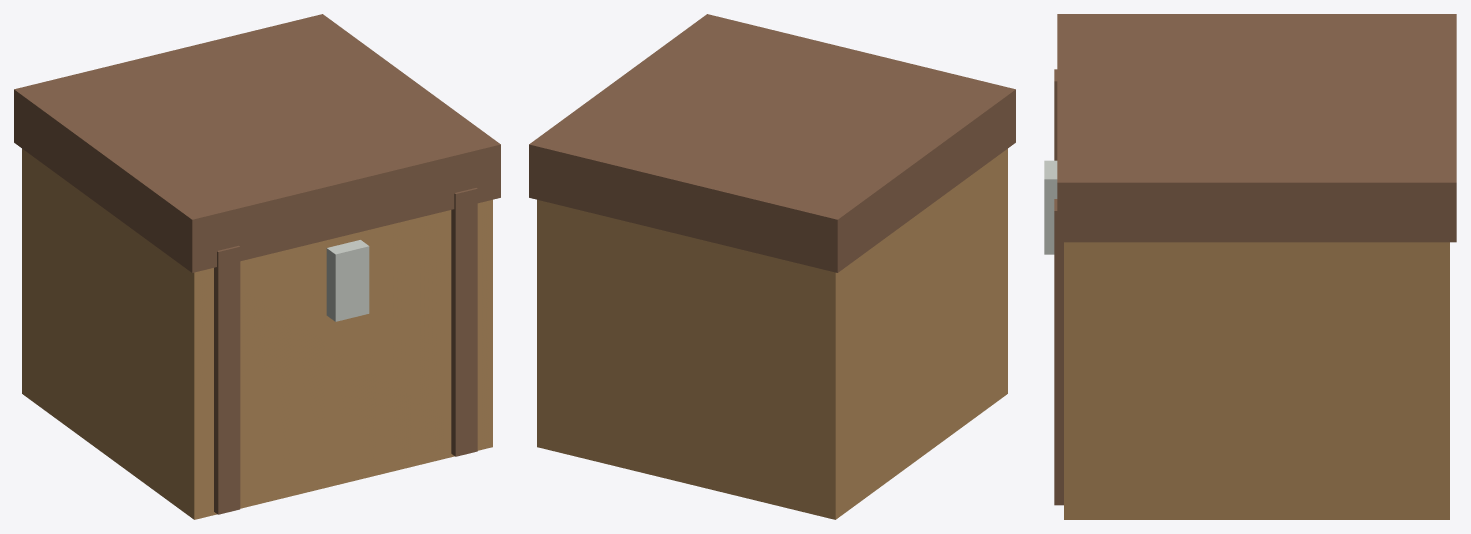
File: chest.glb
The picture shows the model from 3 angles, left to right: view 1: azimuth 30°, elevation 25°; view 2: azimuth 150°, elevation 25°; view 3: azimuth 270°, elevation 25°; orthographic projection. The views are drawn at different scales.
Visible parts, largest first — view 1: box, lid, band, band.001, latch; view 2: box, lid; view 3: box, lid, band.001, latch.
Boxes of the visible parts, left/top/right/bottom form: box: left=22, top=148, right=492, bottom=519; lid: left=14, top=14, right=500, bottom=272; band: left=214, top=245, right=240, bottom=514; band.001: left=451, top=188, right=477, bottom=456; latch: left=326, top=240, right=369, bottom=321; box: left=537, top=148, right=1007, bottom=519; lid: left=529, top=14, right=1015, bottom=272; box: left=1064, top=242, right=1449, bottom=519; lid: left=1057, top=14, right=1456, bottom=242; band.001: left=1054, top=199, right=1063, bottom=505; latch: left=1044, top=160, right=1057, bottom=254.
Bounding box in the file's own units: 0.91 × 0.855 × 0.94.
